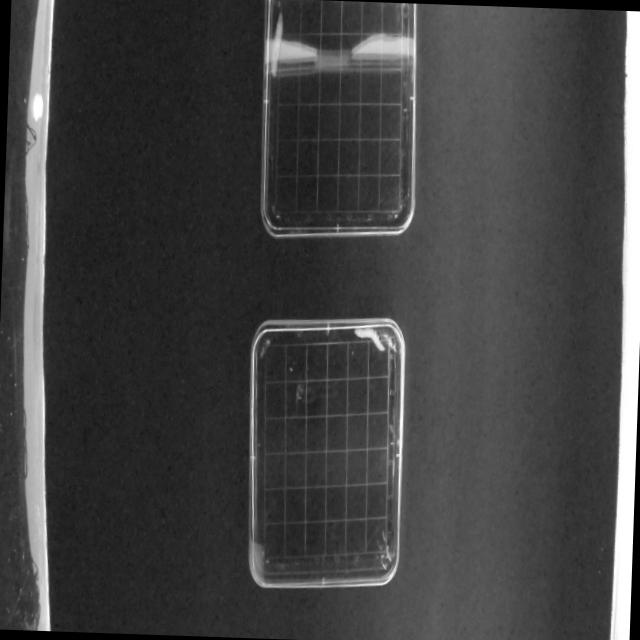larva: (350, 324, 388, 354), (268, 8, 284, 78)
